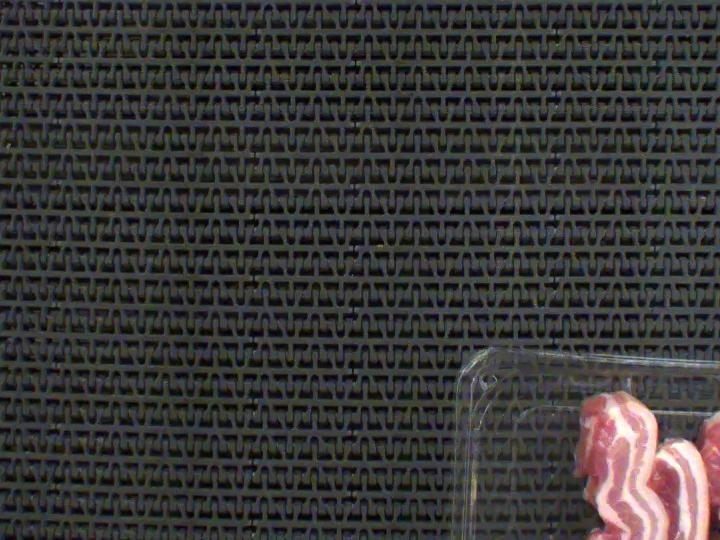packaging-error: (612, 369, 636, 402)
